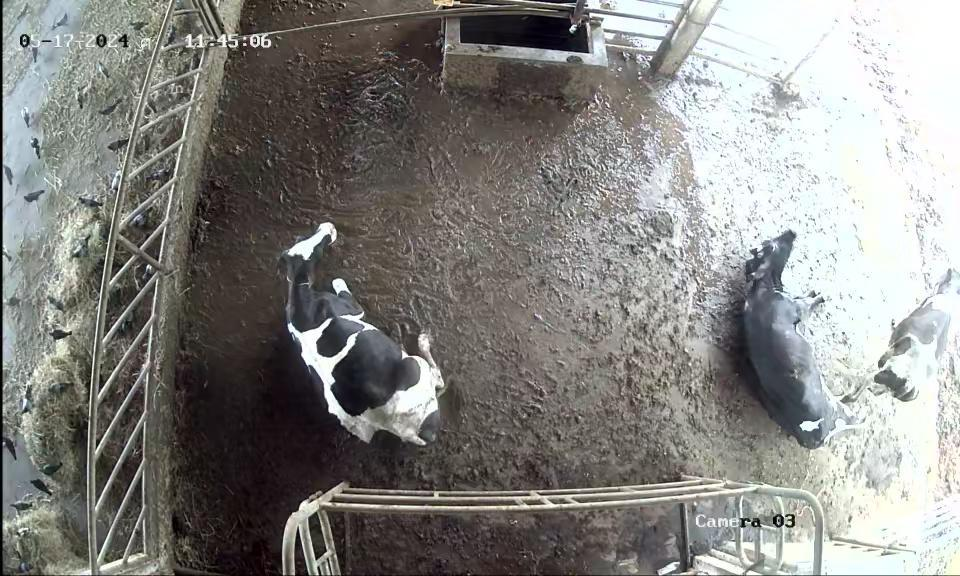lay: (229, 205, 492, 467), (717, 212, 864, 464)
stand: (867, 223, 960, 422)
